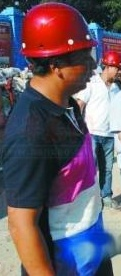boots: (102, 196, 121, 211), (113, 206, 121, 216)
hard-hat: (20, 2, 98, 59)
